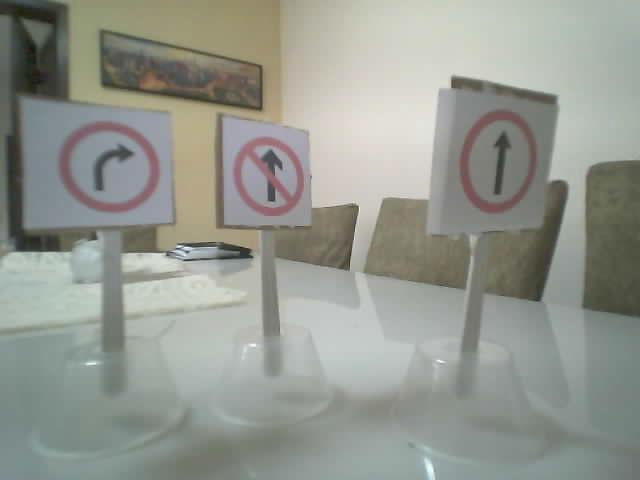R-25b_direita: (58, 119, 161, 214)
R-26_frente: (459, 110, 535, 211)
R-3_sentido-proibido: (233, 135, 303, 217)
